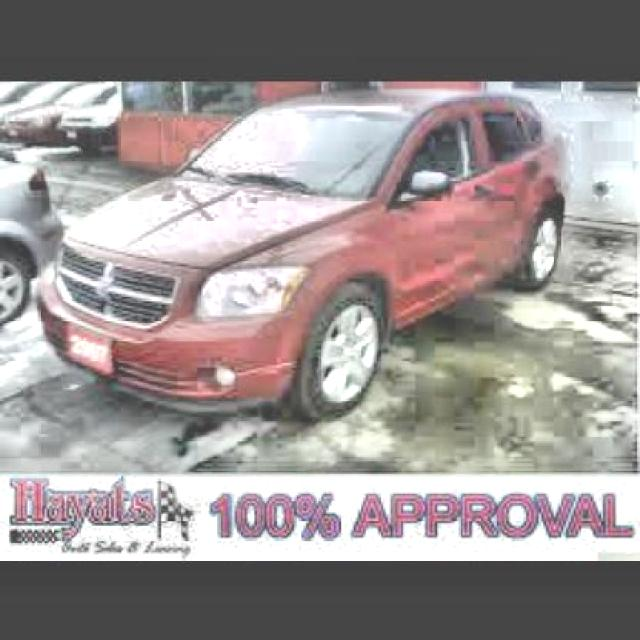maroon: (66, 77, 551, 412)
